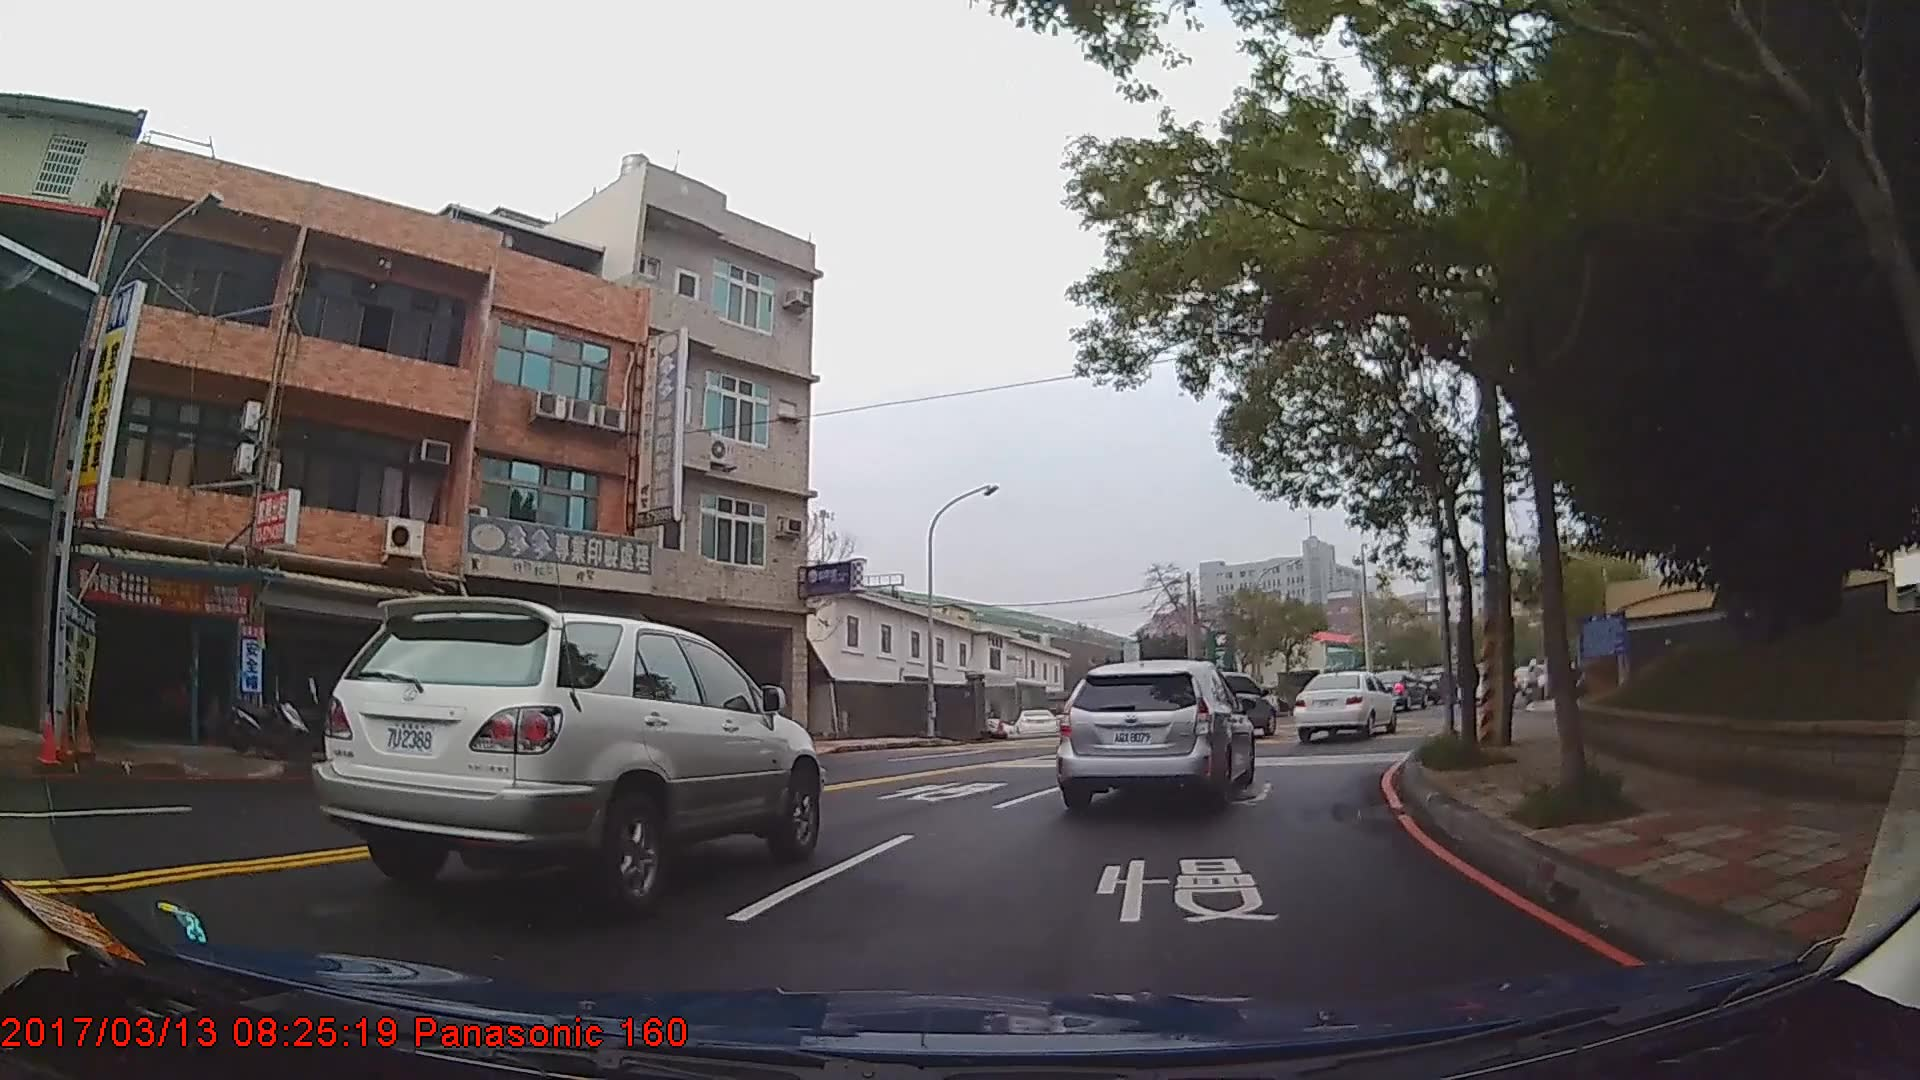vehicle: (309, 593, 824, 918), (1051, 658, 1251, 810), (1291, 670, 1399, 742), (1187, 671, 1276, 741), (1011, 707, 1058, 736)
